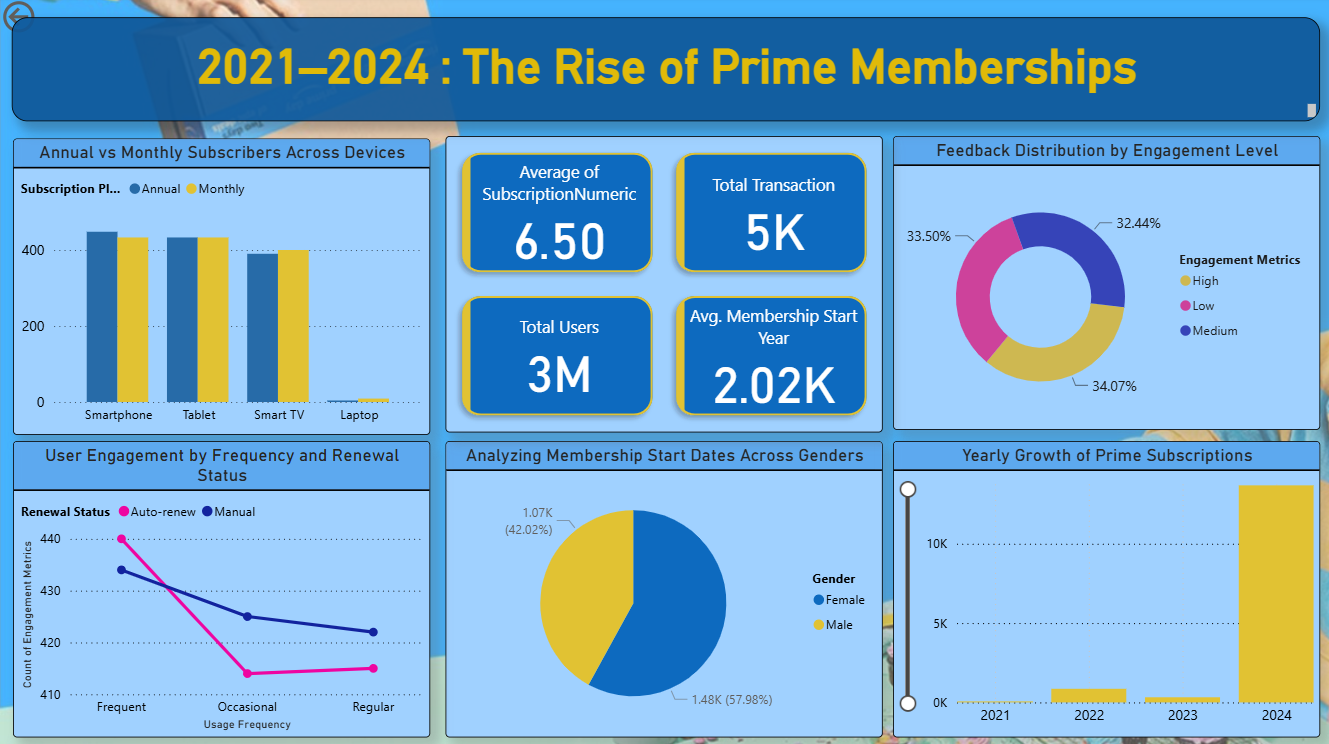

The page's visual inventory and layout, read from the dashboard file:
{"tool":"powerbi","page":{"name":"Page 1","canvas":[1280,720],"ordinal":0},"visuals":[{"type":"clusteredColumnChart","title":" Annual vs Monthly Subscribers Across Devices","fields":{"Y":["CountNonNull(Cleaned_amazon_prime_users.User ID)"],"Category":["Cleaned_amazon_prime_users.Devices Used"],"Series":["Cleaned_amazon_prime_users.Subscription Plan"]},"box":[14.5,136.3,400.5,284.7],"z":0},{"type":"pieChart","title":"Analyzing Membership Start Dates Across Genders","fields":{"Category":["Cleaned_amazon_prime_users.Gender"],"Y":["CountNonNull(Cleaned_amazon_prime_users.Membership Start Date)"]},"box":[429.5,427.1,419.8,284.7],"z":1000},{"type":"lineChart","title":"User Engagement by Frequency and Renewal Status","fields":{"Y":["CountNonNull(Cleaned_amazon_prime_users.Engagement Metrics)"],"Category":["Cleaned_amazon_prime_users.Usage Frequency"],"Series":["Cleaned_amazon_prime_users.Renewal Status"]},"box":[14.5,427.1,400.5,284.7],"z":1001},{"type":"actionButton","box":[0,0,100,40],"z":1003},{"type":"donutChart","title":"Feedback Distribution by Engagement Level","fields":{"Category":["Cleaned_amazon_prime_users.Engagement Metrics"],"Y":["Sum(Cleaned_amazon_prime_users.Feedback/Ratings)"]},"box":[860.2,133.9,410.2,282.3],"z":1004},{"type":"cardVisual","fields":{"Data":["Avg(Cleaned_amazon_prime_users.SubscriptionNumeric)","Sum(Cleaned_amazon_prime_users.Purchase_History_Transaction)","Sum(Cleaned_amazon_prime_users.User ID)","Avg(Cleaned_amazon_prime_users.membership_year)"]},"box":[429.5,133.9,419.8,284.7],"z":1006},{"type":"columnChart","title":"Yearly Growth of Prime Subscriptions","fields":{"Category":["Cleaned_amazon_prime_users.membership_year"],"Y":["Sum(Cleaned_amazon_prime_users.SubscriptionNumeric)"]},"box":[860.2,427.1,410.2,284.7],"z":1007},{"type":"textbox","title":"2021–2024 : The Rise of Prime Memberships","box":[13,20.5,1257,100],"z":1008}]}

Visuals, with their boxes in screenshot pixels (x1, y1, x2, y2), scaled from the page's 1280x720 canvas onto the 1329x744 screenshot:
" Annual vs Monthly Subscribers Across Devices" clusteredColumnChart: [15, 141, 431, 435]
"Analyzing Membership Start Dates Across Genders" pieChart: [446, 441, 882, 736]
"User Engagement by Frequency and Renewal Status" lineChart: [15, 441, 431, 736]
actionButton: [0, 0, 104, 41]
"Feedback Distribution by Engagement Level" donutChart: [893, 138, 1319, 430]
cardVisual - Avg(Cleaned_amazon_prime_users.SubscriptionNumeric) x Sum(Cleaned_amazon_prime_users.Purchase_History_Transaction): [446, 138, 882, 433]
"Yearly Growth of Prime Subscriptions" columnChart: [893, 441, 1319, 736]
"2021–2024 : The Rise of Prime Memberships" textbox: [13, 21, 1319, 125]
